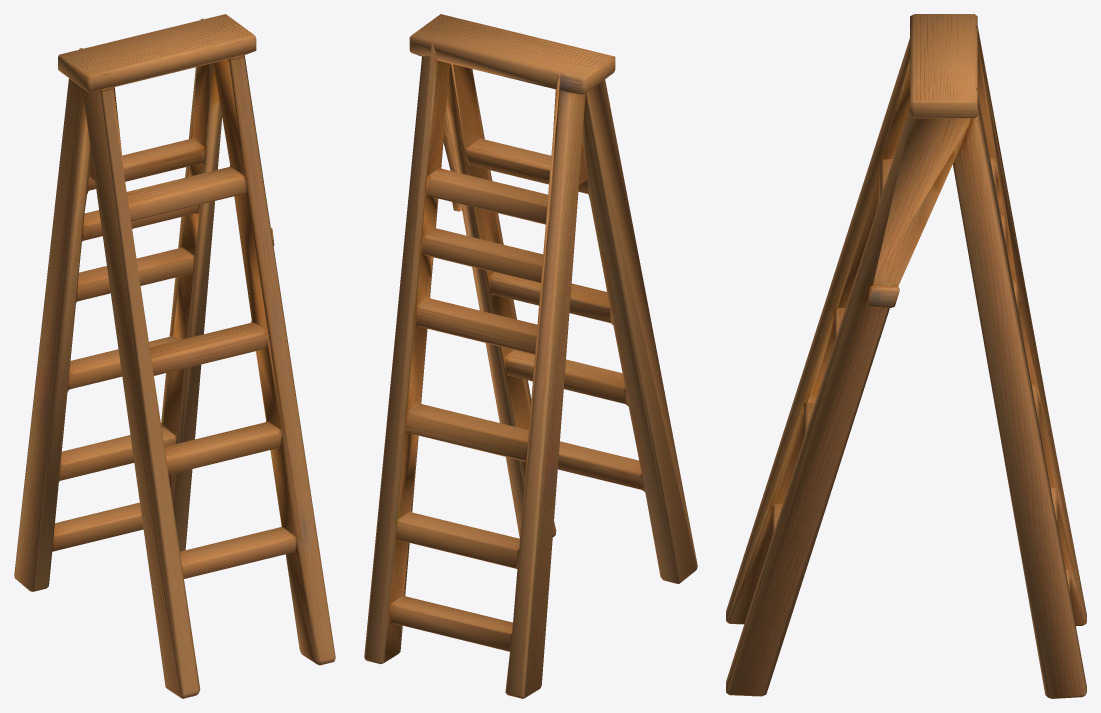
Rendered from Outdoor__a_wooden_ladder_3a9be926_v1.cluster.glb.
3 views of the same model, side by side, from view 1: azimuth 30°, elevation 25°; view 2: azimuth 150°, elevation 25°; view 3: azimuth 270°, elevation 25° (orthographic). The views are drawn at different scales.
Visible parts, largest first — view 1: material; view 2: material; view 3: material.
Part boxes in pixels (bbox=[...]): material: bbox=[14, 14, 335, 698]; material: bbox=[364, 14, 697, 698]; material: bbox=[726, 14, 1086, 698].
Size of the model in its own units: 0.5955 by 1.9 by 1.03.
1 material, 1 textured.
